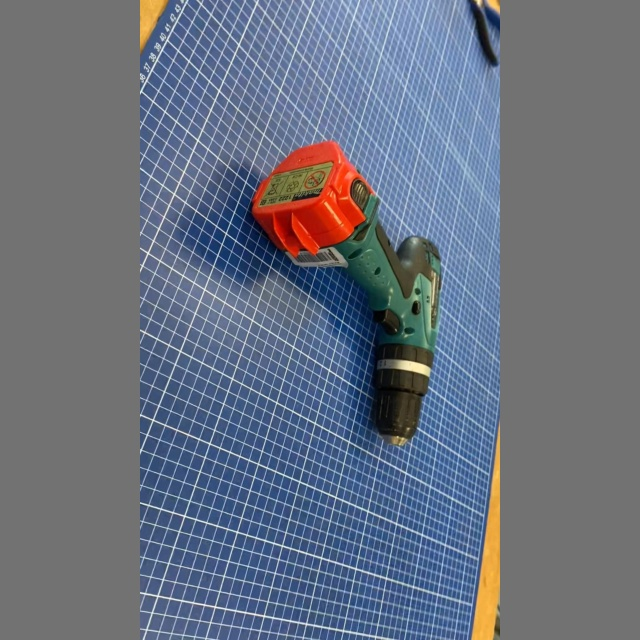drill: (241, 129, 453, 458)
